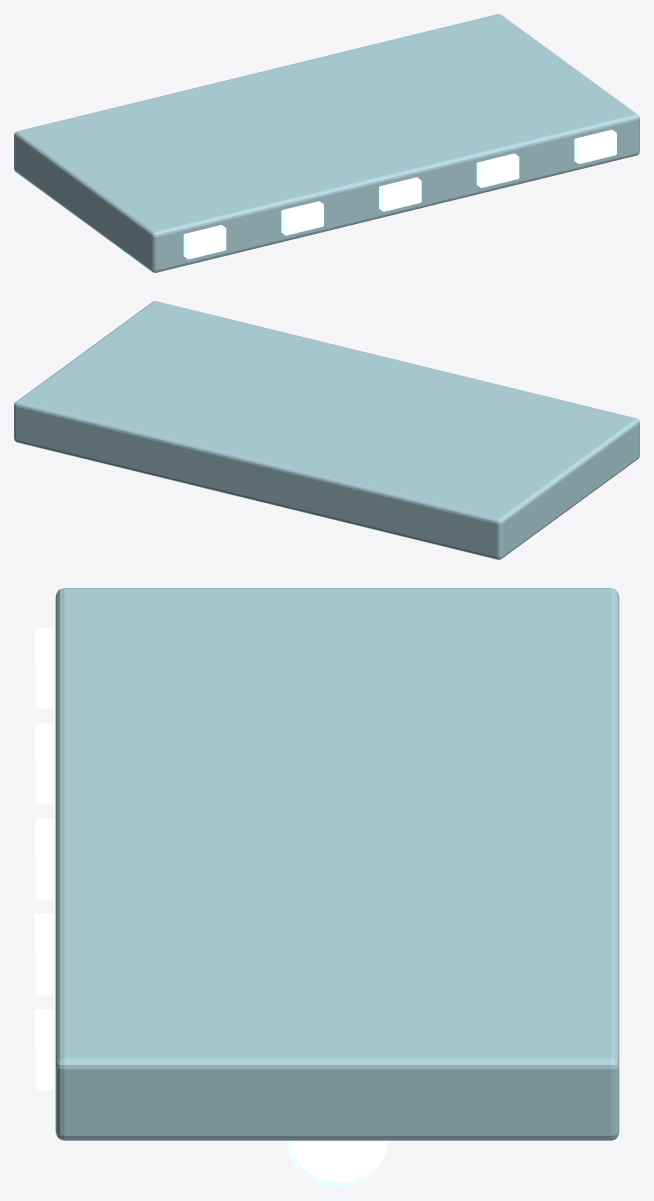
Rendered from SM_DeckCryo.fbx.
3 views of the same model, one above another, from view 1: azimuth 30°, elevation 25°; view 2: azimuth 150°, elevation 25°; view 3: azimuth 270°, elevation 25° (orthographic). The views are drawn at different scales.
Visible parts, largest first — view 1: SM_DeckCryo; view 2: SM_DeckCryo; view 3: SM_DeckCryo.
Part boxes in pixels (x1,y1,x2,y2): SM_DeckCryo: [14, 14, 639, 272]; SM_DeckCryo: [14, 301, 639, 559]; SM_DeckCryo: [34, 588, 619, 1186].
Size of the model in its own units: 200 by 104 by 32.
